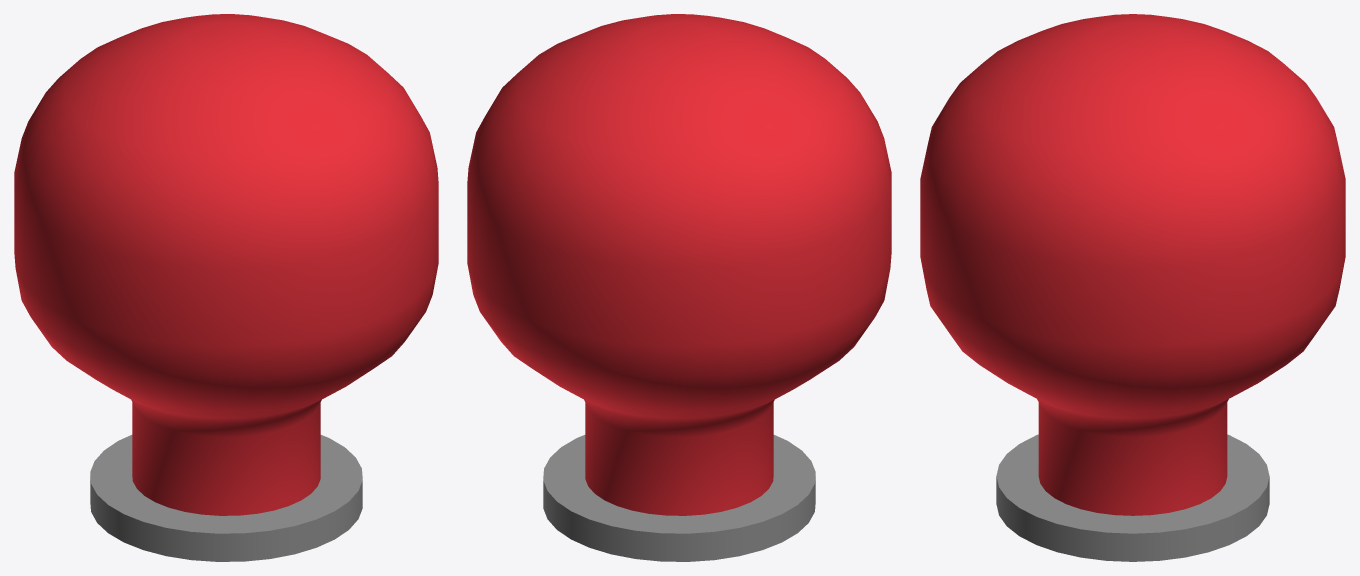
Rendered from Bulb.fbx.
3 views of the same model, side by side, from view 1: azimuth 30°, elevation 25°; view 2: azimuth 150°, elevation 25°; view 3: azimuth 270°, elevation 25° (orthographic).
Parts seen in each view (by area): view 1: Circle; view 2: Circle; view 3: Circle.
Boxes of the visible parts, <box> form: Circle: <box>14,14,438,561</box>; Circle: <box>467,14,891,561</box>; Circle: <box>920,14,1345,561</box>.
Bounding box in the file's own units: 186 × 223 × 186.
